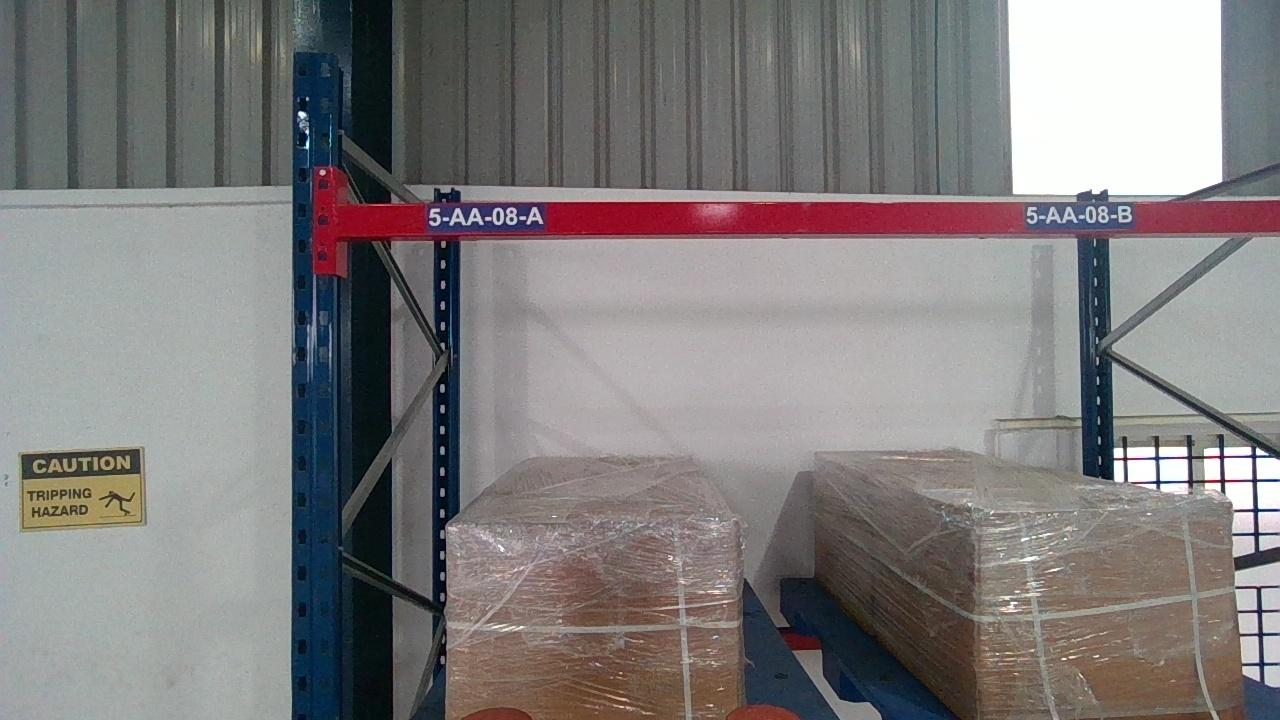h_rack: (336, 199, 1275, 237)
